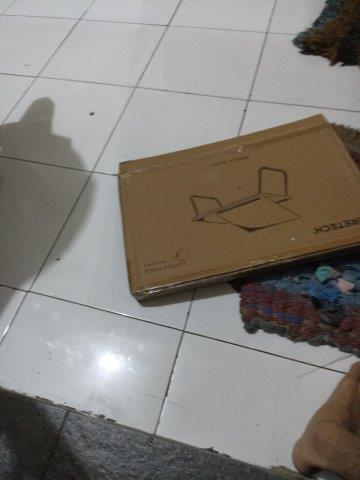kardus: (122, 117, 360, 298)
